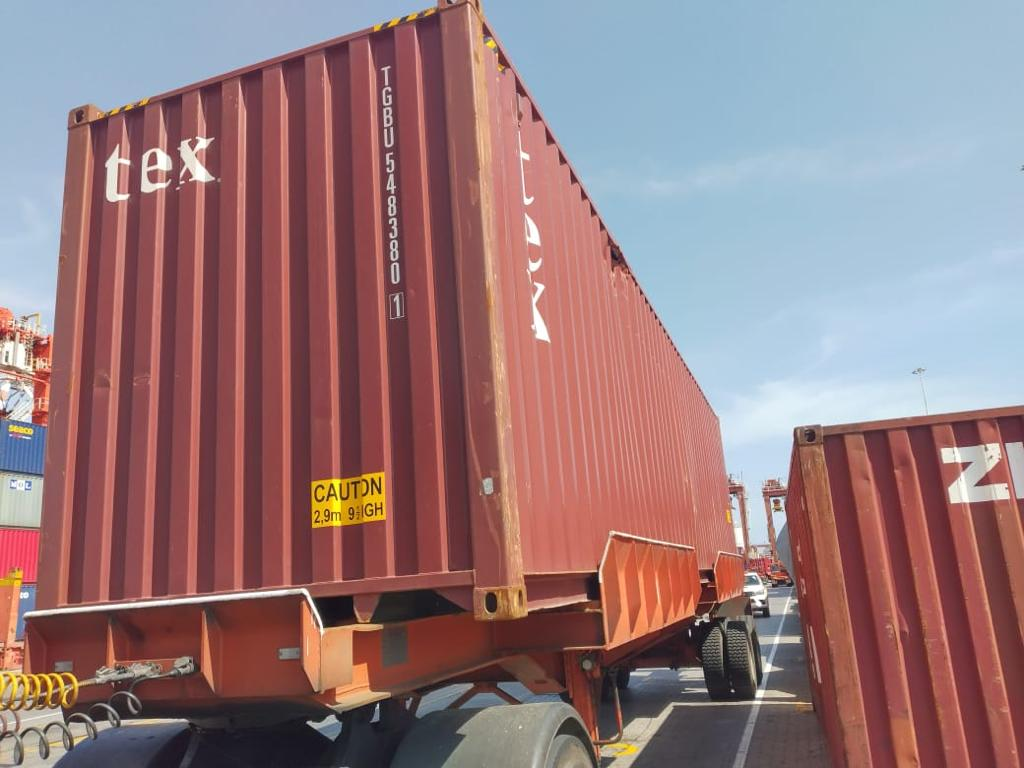cut: (597, 241, 633, 291)
